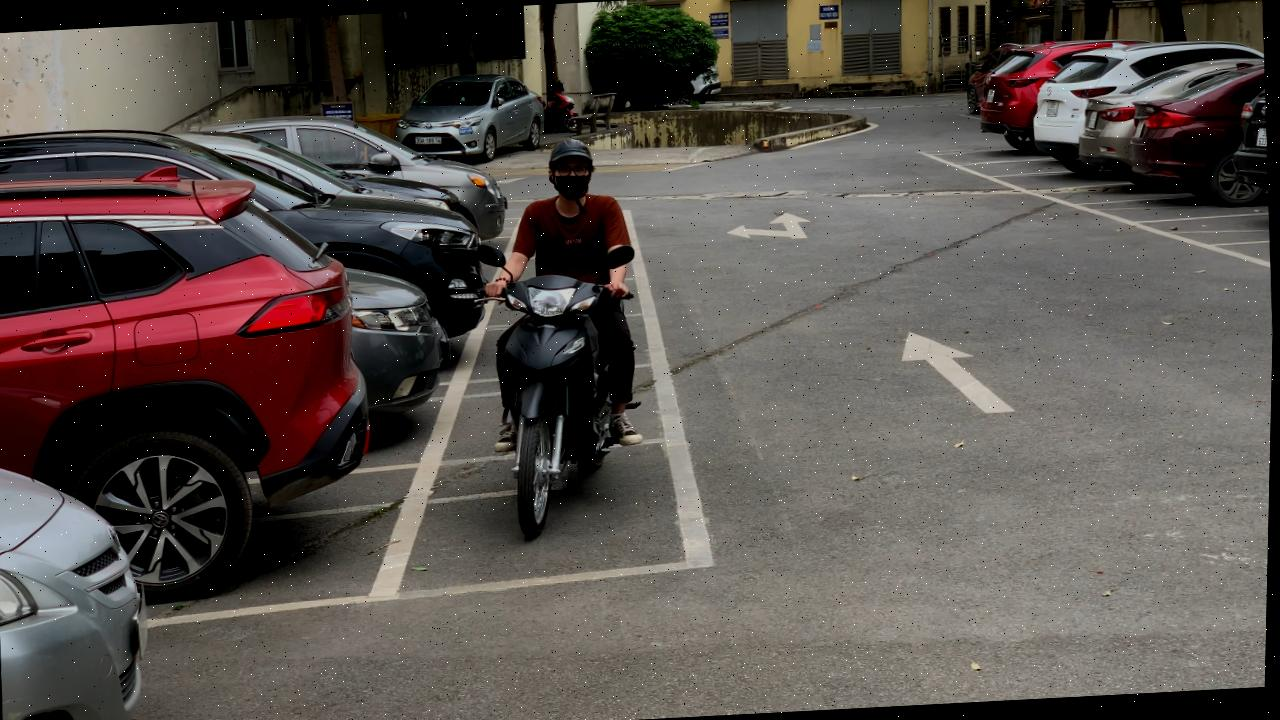helmet: (547, 138, 595, 166)
motorcyclist: (469, 134, 668, 540)
